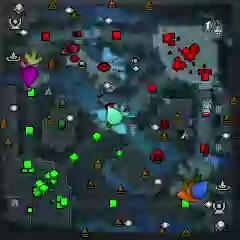p1: (191, 180, 208, 198)
p2: (107, 106, 123, 126)
p3: (22, 66, 39, 87)
p5: (176, 188, 201, 202)
x1: (19, 56, 31, 67)
x2: (25, 47, 42, 65)
x3: (113, 103, 128, 116)
x5: (181, 174, 201, 192)
